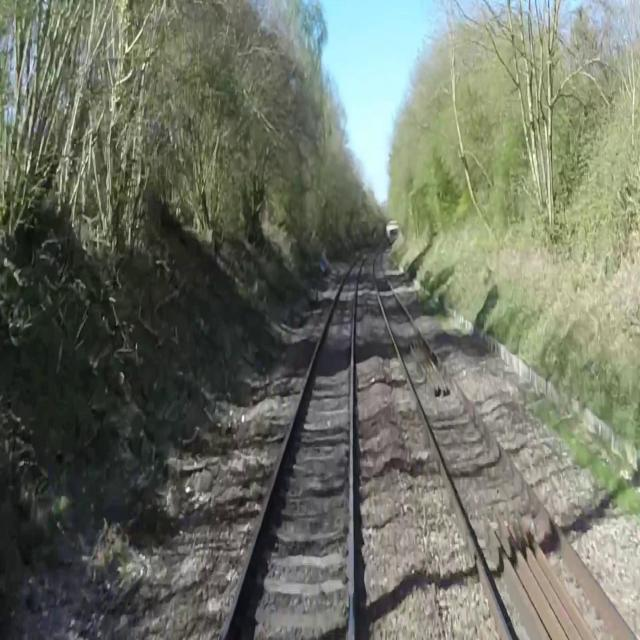rail-track: (374, 243, 630, 639), (225, 250, 369, 639)
